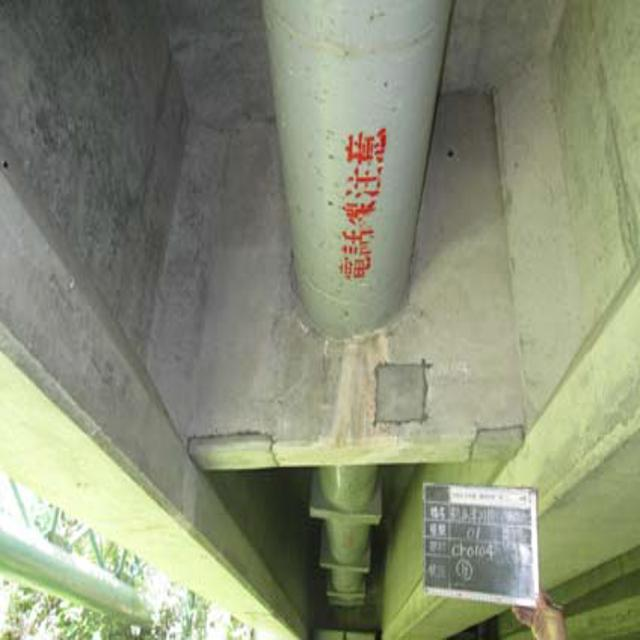freelime: (326, 324, 406, 462)
